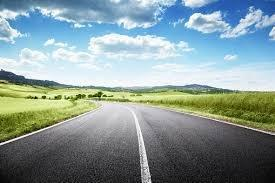road: (0, 102, 274, 182)
